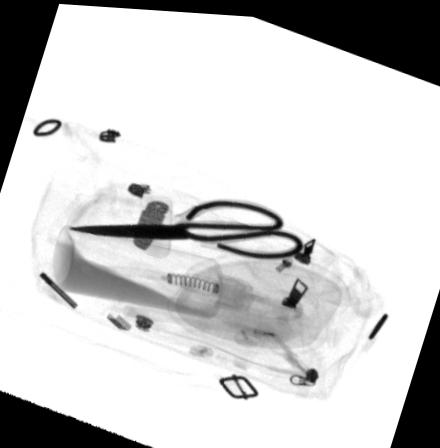Scissors: (68, 194, 306, 255)
